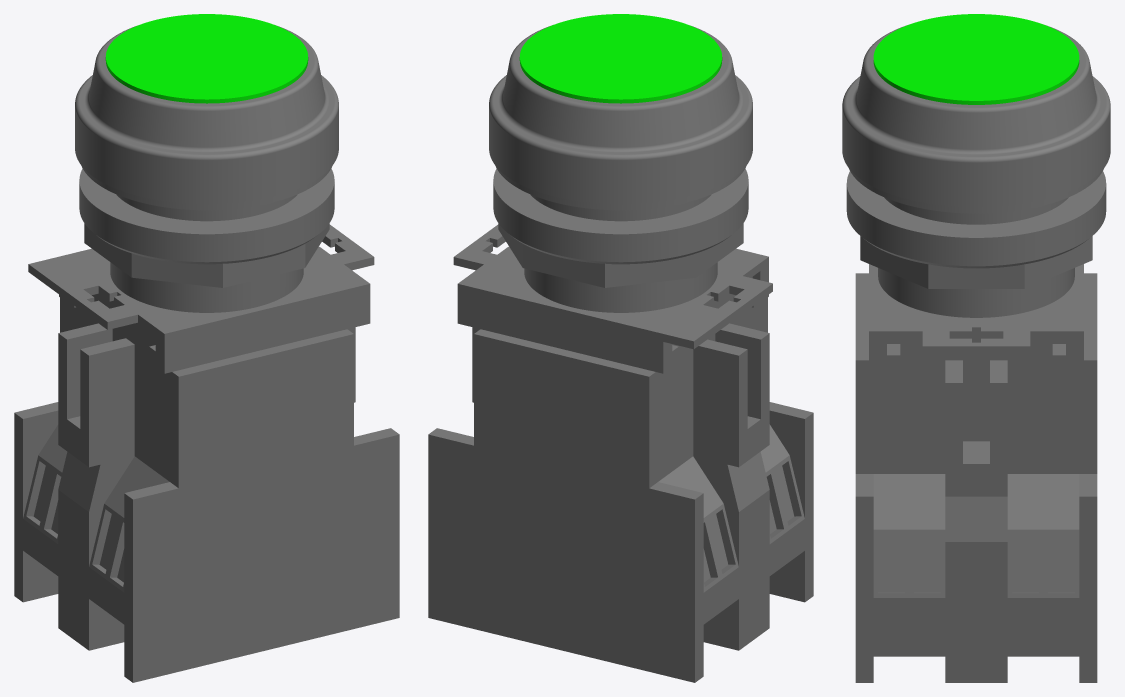
Rendered from fc_pbv.glb.
3 renders of one model, left to right at view 1: azimuth 30°, elevation 25°; view 2: azimuth 150°, elevation 25°; view 3: azimuth 270°, elevation 25°, orthographic.
Parts seen in each view (by area): view 1: Botao de Pulso Verde; view 2: Botao de Pulso Verde; view 3: Botao de Pulso Verde.
Part boxes in pixels (x1,y1,x2,y2): Botao de Pulso Verde: [14, 14, 399, 682]; Botao de Pulso Verde: [428, 14, 813, 682]; Botao de Pulso Verde: [842, 14, 1110, 682].
Size of the model in its own units: 0.036 by 0.069 by 0.03.
